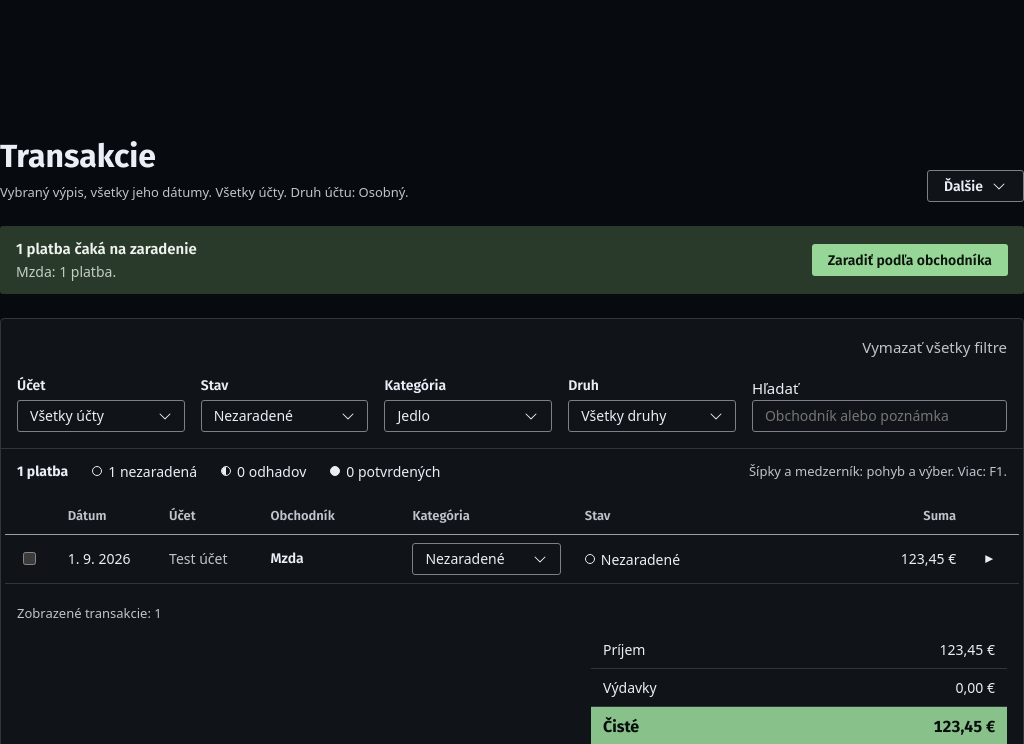
Scenario: transaction filters, export and sums › exports all current constraints including fresh pre-debounce text and statement drill-down
The width and height of the screenshot is (1024, 744).
(page scrolled)
Expected: the text "Mzda" is shown, [270, 550, 304, 567]
Select "Osobný - Test účet" in the dropdown labelled "Účet" at (101, 416), box [17, 400, 185, 432]
(page scrolled)
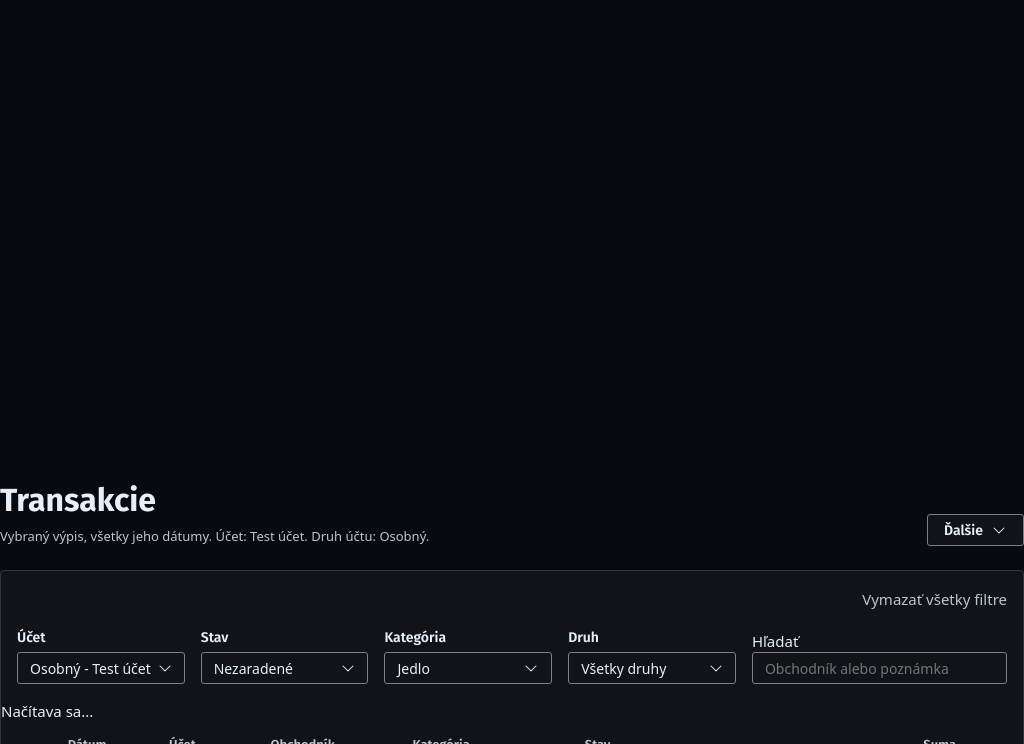
Type "čerstvý text" into the search field named "Hľadať obchodníka alebo poznámku".
click(879, 668); type("čerstvý text")  # box [752, 652, 1007, 684]
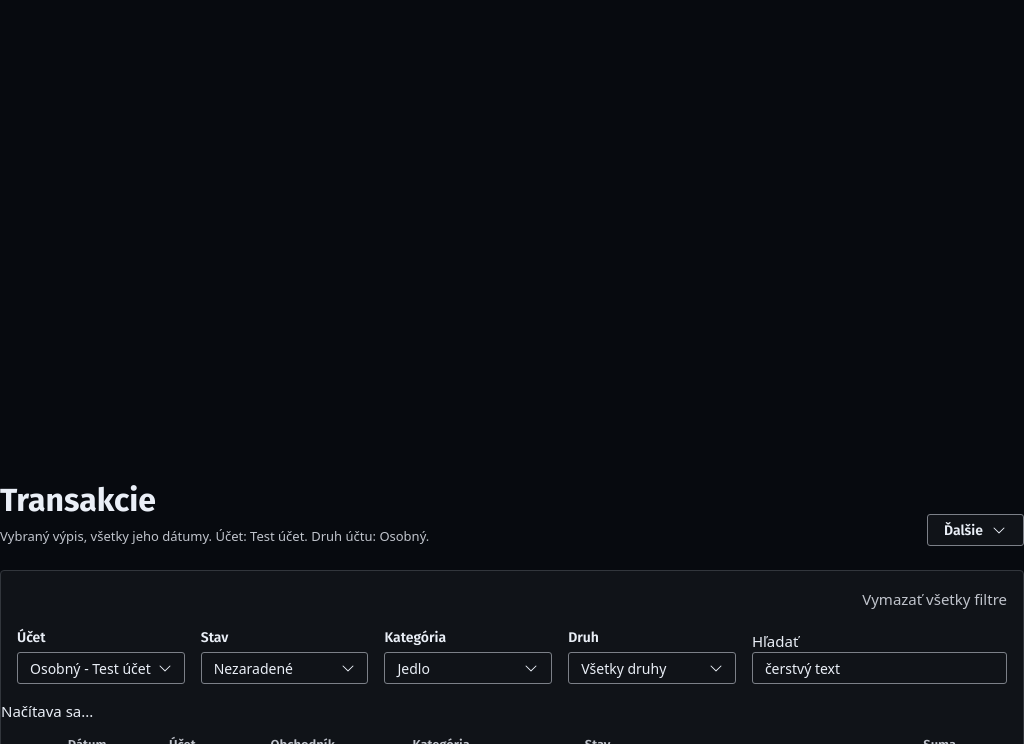
Click the button "Ďalšie".
click(976, 530)  # box [927, 514, 1023, 546]
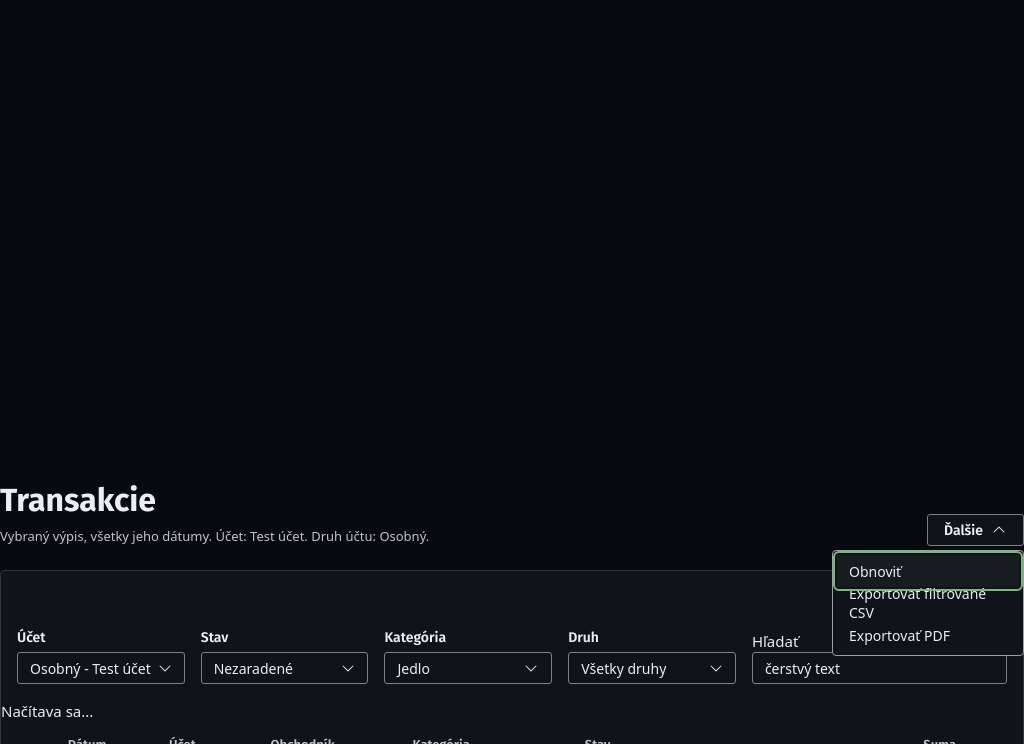
Click the menu item "Exportovať filtrované CSV".
click(928, 603)  # box [837, 587, 1019, 619]
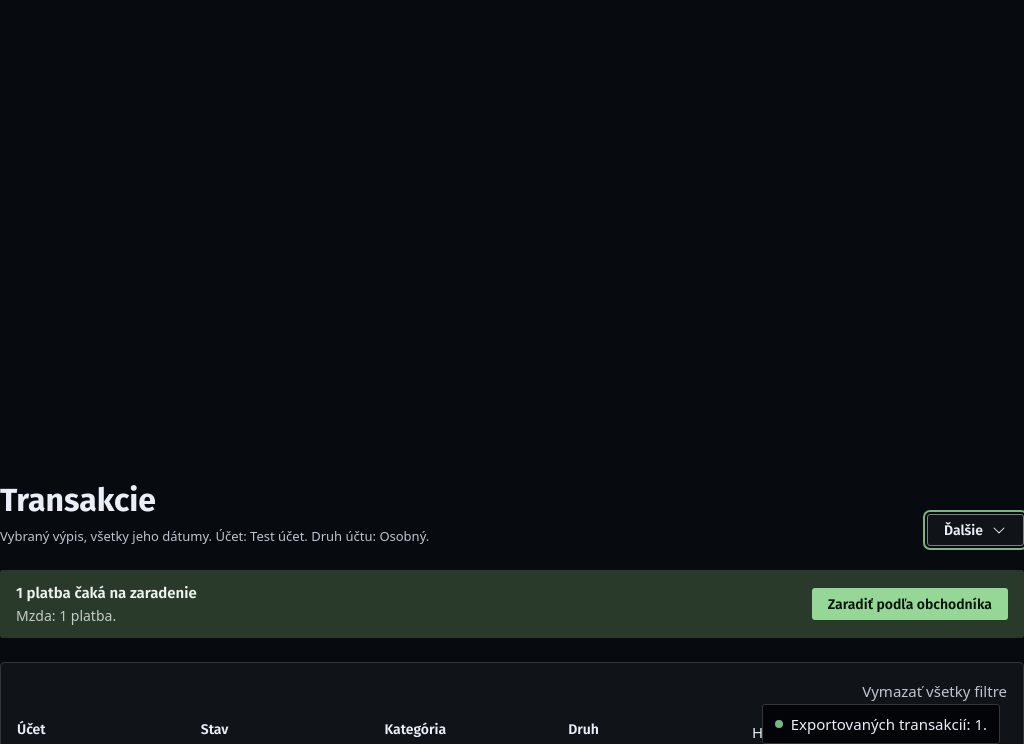
Now the text "Exportovaných transakcií: 1." is shown, box [791, 712, 987, 735]
